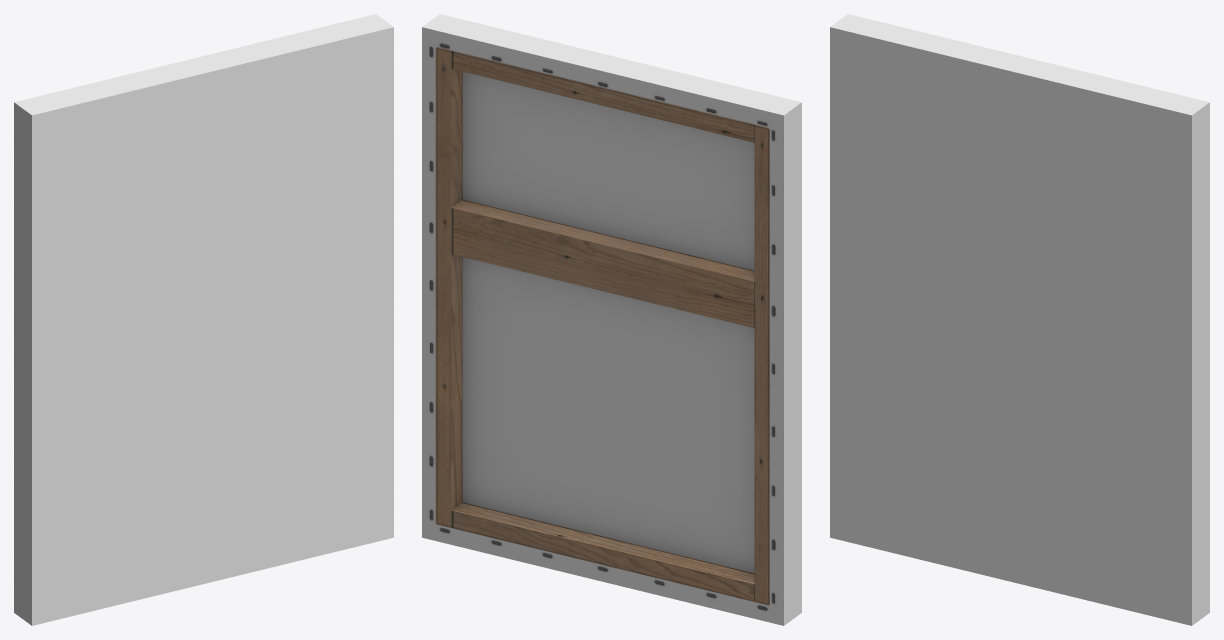
File: canvas_01.fbx
3 views of the same model, side by side, from view 1: azimuth 30°, elevation 25°; view 2: azimuth 150°, elevation 25°; view 3: azimuth 330°, elevation 25° (orthographic).
Parts seen in each view (by area): view 1: canvas_01; view 2: canvas_01; view 3: canvas_01.
Boxes of the visible parts, x1,y1,x2,y2 form: canvas_01: (14, 14, 393, 625); canvas_01: (422, 14, 801, 625); canvas_01: (830, 14, 1209, 625).
Size of the model in its own units: 118 by 159 by 10.13.
